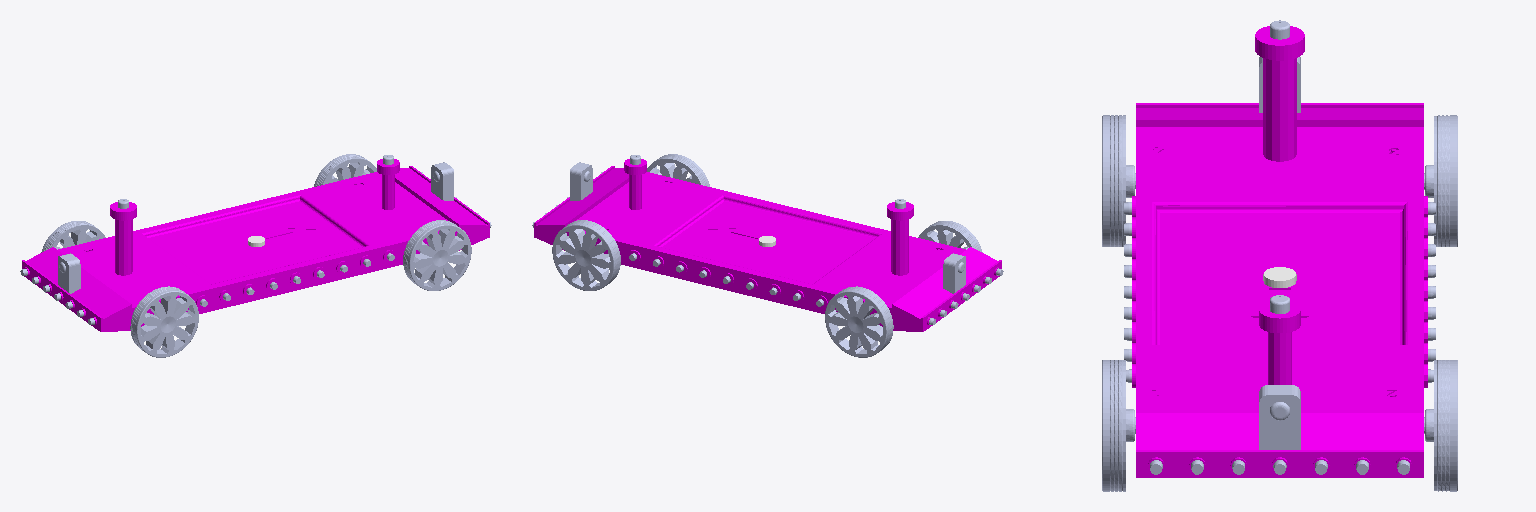
--- Render facts (derived) ---
Views: 3 orthographic renders of the robot side by side, from view 1: azimuth 30°, elevation 25°; view 2: azimuth 150°, elevation 25°; view 3: azimuth 270°, elevation 25°.
Robot: rover_proto_A1_gps — 15 links, 14 joints (4 continuous, 10 fixed); root link Chassis; default pose: every joint at zero.
Links seen in each view (by area): view 1: Chassis, Wheel_4_Link, Wheel_1_Link, Wheel_2_Link, Wheel_3_Link, Camera_Back_Link, Camera_Fwd_Link; view 2: Chassis, Wheel_3_Link, Wheel_2_Link, Wheel_1_Link, Wheel_4_Link, Camera_Back_Link, Camera_Fwd_Link; view 3: Chassis, Wheel_1_Link, Wheel_2_Link, Wheel_4_Link, Wheel_3_Link, Camera_Fwd_Link, Lights_Fwd_Link, Lights_Right_Link, Lights_Left_Link, link_GPS.
Link boxes in pixels (left/top/right/bottom): Chassis: left=22, top=159, right=489, bottom=331; Wheel_4_Link: left=130, top=286, right=198, bottom=357; Wheel_1_Link: left=403, top=220, right=471, bottom=290; Wheel_2_Link: left=314, top=154, right=376, bottom=186; Wheel_3_Link: left=41, top=221, right=105, bottom=252; Camera_Back_Link: left=58, top=253, right=80, bottom=293; Camera_Fwd_Link: left=431, top=162, right=453, bottom=200; Chassis: left=534, top=159, right=1001, bottom=331; Wheel_3_Link: left=825, top=286, right=893, bottom=357; Wheel_2_Link: left=552, top=220, right=620, bottom=290; Wheel_1_Link: left=647, top=154, right=709, bottom=186; Wheel_4_Link: left=918, top=221, right=982, bottom=252; Camera_Back_Link: left=943, top=253, right=965, bottom=293; Camera_Fwd_Link: left=570, top=162, right=592, bottom=200; Chassis: left=1132, top=26, right=1427, bottom=477; Wheel_1_Link: left=1102, top=360, right=1135, bottom=491; Wheel_2_Link: left=1424, top=360, right=1457, bottom=491; Wheel_4_Link: left=1102, top=115, right=1135, bottom=246; Wheel_3_Link: left=1424, top=115, right=1457, bottom=246; Camera_Fwd_Link: left=1259, top=385, right=1300, bottom=449; Lights_Fwd_Link: left=1150, top=460, right=1409, bottom=474; Lights_Right_Link: left=1124, top=202, right=1131, bottom=382; Lights_Left_Link: left=1428, top=202, right=1435, bottom=382; link_GPS: left=1263, top=267, right=1296, bottom=287.
Bounding box of the posed robot: 1.03 × 0.432 × 0.295 m (x, y, z).
Meshes: 13 distinct files referenced, 13 mesh visuals loaded (11 binary STL, 2 Collada DAE).

The robot description file, URDF, robot "rover_proto_A1_gps":
<?xml version="1.0" ?>
<!-- This URDF was automatically created by SolidWorks to URDF Exporter! Originally created by Stephen Brawner ([email redacted]) 
     Commit Version: 1.6.0-4-g7f85cfe  Build Version: 1.6.7995.38578
     For more information, please see http://wiki.ros.org/sw_urdf_exporter -->
<robot
  name="rover_proto_A1_gps">
  <link
    name="Chassis">
    <inertial>
      <origin
        xyz="-0.00365912647993058 -3.92554968145498E-06 -0.0261956410433819"
        rpy="0 0 0" />
      <mass
        value="17.7896117328331" />
      <inertia
        ixx="0.188123995834319"
        ixy="-3.69133382058458E-06"
        ixz="0.00394291892265975"
        iyy="1.49358440846885"
        iyz="-8.27261031196303E-06"
        izz="1.66880203354025" />
    </inertial>

    <visual>
      <origin
        xyz="0 0 0"
        rpy="0 0 0" />
      <geometry>
        <mesh
          filename="package://line_following_rover/urdf/rover_proto_A1/meshes/Chassis.dae" />
      </geometry>
      <material
        name="red">
        <color
          rgba="1.0 0.0 1.0 1" />
      </material>
    </visual>

    <collision>
      <origin
        xyz="0 0 0"
        rpy="0 0 0" />
      <geometry>
        <mesh
          filename="package://line_following_rover/urdf/rover_proto_A1/meshes/Chassis.STL" />
      </geometry>
    </collision>
  </link>

  <link
    name="Lights_Fwd_Link">
    <inertial>
      <origin
        xyz="0.507527194200393 -3.69511700598624E-06 -0.0223168195436138"
        rpy="0 0 0" />
      <mass
        value="0.0132155007740645" />
      <inertia
        ixx="3.9910662761744E-07"
        ixy="7.75490345241783E-24"
        ixz="-1.19868842711491E-23"
        iyy="3.06977336844872E-07"
        iyz="-1.18562554465934E-23"
        izz="3.06977336844872E-07" />
    </inertial>
    <visual>
      <origin
        xyz="0 0 0"
        rpy="0 0 0" />
      <geometry>
        <mesh
          filename="package://line_following_rover/urdf/rover_proto_A1/meshes/Lights_Fwd_Link.STL" />
      </geometry>
      <material
        name="">
        <color
          rgba="0.792156862745098 0.819607843137255 0.933333333333333 1" />
      </material>
    </visual>

    <!-- <light name='light_source1' type='spot'>
      <pose frame=''>0.25 0 0.25 0 -0.7854 0</pose>
      <attenuation>
        <range>30</range>
        <linear>0.05</linear>
      </attenuation>
      <diffuse>1 0 0 1</diffuse>
      <specular>1 0 0 1</specular>
      <spot>
        <inner_angle>0.3</inner_angle>
        <outer_angle>0.35</outer_angle>
        <falloff>1</falloff>
      </spot>
      <direction>0 0 -1</direction>
    </light> -->

    <collision>
      <origin
        xyz="0 0 0"
        rpy="0 0 0" />
      <geometry>
        <mesh
          filename="package://line_following_rover/urdf/rover_proto_A1/meshes/Lights_Fwd_Link.STL" />
      </geometry>
    </collision>
  </link>

  <joint
    name="Lights_Fwd_Joint"
    type="fixed">
    <origin
      xyz="0 0 0"
      rpy="0 0 0" />
    <parent
      link="Chassis" />
    <child
      link="Lights_Fwd_Link" />
    <axis
      xyz="0 0 0" />
  </joint>
  <link
    name="Lights_Back_Link">
    <inertial>
      <origin
        xyz="-0.510085250925588 -3.69511700598624E-06 -0.0223168195436137"
        rpy="0 0 0" />
      <mass
        value="0.0132155007740645" />
      <inertia
        ixx="3.9910662761744E-07"
        ixy="6.8244111649112E-24"
        ixz="-1.29839861069366E-23"
        iyy="3.06977336844872E-07"
        iyz="-6.13492287643496E-24"
        izz="3.06977336844872E-07" />
    </inertial>
    <visual>
      <origin
        xyz="0 0 0"
        rpy="0 0 0" />
      <geometry>
        <mesh
          filename="package://line_following_rover/urdf/rover_proto_A1/meshes/Lights_Back_Link.STL" />
      </geometry>
      <material
        name="">
        <color
          rgba="0.792156862745098 0.819607843137255 0.933333333333333 1" />
      </material>
    </visual>
    <collision>
      <origin
        xyz="0 0 0"
        rpy="0 0 0" />
      <geometry>
        <mesh
          filename="package://line_following_rover/urdf/rover_proto_A1/meshes/Lights_Back_Link.STL" />
      </geometry>
    </collision>
  </link>
  <joint
    name="Lights_Back_Joint"
    type="fixed">
    <origin
      xyz="0 0 0"
      rpy="0 0 0" />
    <parent
      link="Chassis" />
    <child
      link="Lights_Back_Link" />
    <axis
      xyz="0 0 0" />
  </joint>

  <link
    name="Lidar_Fwd_Link">
    <inertial>
      <origin
        xyz="-2.77555756156289E-17 -2.77555756156289E-17 0.00132574469891017"
        rpy="0 0 0" />
      <mass
        value="0.00718054669235149" />
      <inertia
        ixx="4.06173549617938E-07"
        ixy="-1.78668025637928E-27"
        ixz="-1.49774027075481E-23"
        iyy="4.06693549617938E-07"
        iyz="-2.63696474568856E-26"
        izz="5.54439348186677E-07" />
    </inertial>
    <visual>
      <origin
        xyz="0 0 0"
        rpy="0 0 0" />
      <geometry>
        <mesh
          filename="package://line_following_rover/urdf/rover_proto_A1/meshes/Lidar_Fwd_Link.STL" />
      </geometry>
      <material
        name="">
        <color
          rgba="0.792156862745098 0.819607843137255 0.933333333333333 1" />
      </material>
    </visual>
    <collision>
      <origin
        xyz="0 0 0"
        rpy="0 0 0" />
      <geometry>
        <mesh
          filename="package://line_following_rover/urdf/rover_proto_A1/meshes/Lidar_Fwd_Link.STL" />
      </geometry>
    </collision>
  </link>

  <joint
    name="Lidar_Fwd_Joint"
    type="fixed">
    <origin
      xyz="0.33872 0 0.116"
      rpy="0 0 -1.57" />
    <parent
      link="Chassis" />
    <child
      link="Lidar_Fwd_Link" />
    <axis
      xyz="0 0 0" />
  </joint>

  <link
    name="Lidar_Back_Link">
    <inertial>
      <origin
        xyz="0 -2.77555756156289E-17 0.00132574469891017"
        rpy="0 0 0" />
      <mass
        value="0.00718054669235149" />
      <inertia
        ixx="4.06173549617938E-07"
        ixy="2.38255619983598E-27"
        ixz="-1.74704316295583E-23"
        iyy="4.06693549617938E-07"
        iyz="4.66873926235502E-42"
        izz="5.54439348186677E-07" />
    </inertial>
    <visual>
      <origin
        xyz="0 0 0"
        rpy="0 0 0" />
      <geometry>
        <mesh
          filename="package://line_following_rover/urdf/rover_proto_A1/meshes/Lidar_Back_Link.STL" />
      </geometry>
      <material
        name="">
        <color
          rgba="0.792156862745098 0.819607843137255 0.933333333333333 1" />
      </material>
    </visual>
    <collision>
      <origin
        xyz="0 0 0"
        rpy="0 0 0" />
      <geometry>
        <mesh
          filename="package://line_following_rover/urdf/rover_proto_A1/meshes/Lidar_Back_Link.STL" />
      </geometry>
    </collision>
  </link>

  <joint
    name="Lidar_Back_Joint"
    type="fixed">
    <origin
      xyz="-0.34128 0 0.166"
      rpy="0 0 1.57" />
    <parent
      link="Chassis" />
    <child
      link="Lidar_Back_Link" />
    <axis
      xyz="0 0 0" />
  </joint>

  <link
    name="Camera_Fwd_Link">
    <inertial>
      <origin
        xyz="-0.0197350018270021 3.65896736520543E-08 -0.0158959745479343"
        rpy="0 0 0" />
      <mass
        value="0.113752710585391" />
      <inertia
        ixx="7.31847315721116E-05"
        ixy="3.14172237115925E-12"
        ixz="1.11972038452148E-06"
        iyy="6.00130734763396E-05"
        iyz="-1.75810930148708E-10"
        izz="3.20124877089661E-05" />
    </inertial>
    <visual>
      <origin
        xyz="0 0 0"
        rpy="0 0 0" />
      <geometry>
        <mesh
          filename="package://line_following_rover/urdf/rover_proto_A1/meshes/Camera_Fwd_Link.STL" />
      </geometry>
      <material
        name="">
        <color
          rgba="0.792156862745098 0.819607843137255 0.933333333333333 1" />
      </material>
    </visual>
    <collision>
      <origin
        xyz="0 0 0"
        rpy="0 0 0" />
      <geometry>
        <mesh
          filename="package://line_following_rover/urdf/rover_proto_A1/meshes/Camera_Fwd_Link.STL" />
      </geometry>
    </collision>
  </link>

  <joint
    name="Camera_Fwd_Joint"
    type="fixed">
    <origin
      xyz="0.49872 0 0.046965"
      rpy="0 0 0" />
    <parent
      link="Chassis" />
    <child
      link="Camera_Fwd_Link" />
    <axis
      xyz="0 0 0" />
  </joint>

<!-- Test link for back cam -->
  <link name="Camera_Back_Link_Frame">
    <origin
      xyz="0.0197350018270018 -1.82825367733841E-07 -0.0158959745479384"
      rpy="0 0 0" />

  </link>

  <joint
    name="Camera_Back_Frame_Joint"
    type="fixed">
    <origin
      xyz="-0.50128 0 0.046965"
      rpy="0 0 3.1416" />
    <parent
      link="Chassis" />
    <child
      link="Camera_Back_Link_Frame" />
    <axis
      xyz="0 0 0" />
  </joint>

  <link
    name="Camera_Back_Link">
    <inertial>
      <origin
        xyz="0.0197350018270018 -1.82825367733841E-07 -0.0158959745479384"
        rpy="0 0 0" />
      <mass
        value="0.113752710585391" />
      <inertia
        ixx="7.31847315721118E-05"
        ixy="3.14172236060984E-12"
        ixz="-1.1197203845215E-06"
        iyy="6.00130734763398E-05"
        iyz="1.75810930147711E-10"
        izz="3.20124877089662E-05" />
    </inertial>
    <visual>
      <origin
        xyz="0 0 0"
        rpy="0 0 0" />
      <geometry>
        <mesh
          filename="package://line_following_rover/urdf/rover_proto_A1/meshes/Camera_Back_Link.dae" />
      </geometry>
      <material
        name="">
        <color
          rgba="0.792156862745098 0.819607843137255 0.933333333333333 1" />
      </material>
    </visual>
    <collision>
      <origin
        xyz="0 0 0"
        rpy="0 0 0" />
      <geometry>
        <mesh
          filename="package://line_following_rover/urdf/rover_proto_A1/meshes/Camera_Back_Link.STL" />
      </geometry>
    </collision>
  </link>

  

  <joint
    name="Camera_Back_Joint"
    type="fixed">
    <origin
      xyz="-0.50128 0 0.046965"
      rpy="0 0 0" />
    <parent
      link="Chassis" />
    <child
      link="Camera_Back_Link" />
    <axis
      xyz="0 0 0" />
  </joint>

  <link
    name="Lights_Right_Link">
    <inertial>
      <origin
        xyz="-0.00127902836259733 -0.183809917679996 -0.0251832122349882"
        rpy="0 0 0" />
      <mass
        value="0.0169913581380829" />
      <inertia
        ixx="3.94685147371978E-07"
        ixy="4.55988347062208E-24"
        ixz="-9.86348436712857E-24"
        iyy="5.13137092650993E-07"
        iyz="-1.19093415939117E-24"
        izz="3.94685147371978E-07" />
    </inertial>
    <visual>
      <origin
        xyz="0 0 0"
        rpy="0 0 0" />
      <geometry>
        <mesh
          filename="package://line_following_rover/urdf/rover_proto_A1/meshes/Lights_Right_Link.STL" />
      </geometry>
      <material
        name="">
        <color
          rgba="0.792156862745098 0.819607843137255 0.933333333333333 1" />
      </material>
    </visual>
    <collision>
      <origin
        xyz="0 0 0"
        rpy="0 0 0" />
      <geometry>
        <mesh
          filename="package://line_following_rover/urdf/rover_proto_A1/meshes/Lights_Right_Link.STL" />
      </geometry>
    </collision>
  </link>

  <joint
    name="Lights_Right_Joint"
    type="fixed">
    <origin
      xyz="0 0 0"
      rpy="0 0 0" />
    <parent
      link="Chassis" />
    <child
      link="Lights_Right_Link" />
    <axis
      xyz="0 0 0" />
  </joint>

  <link
    name="Lights_Left_Link">
    <inertial>
      <origin
        xyz="-0.00127902836259736 0.183802527445984 -0.0251832122349882"
        rpy="0 0 0" />
      <mass
        value="0.0169913581380829" />
      <inertia
        ixx="3.94685147371979E-07"
        ixy="-2.7969213597333E-24"
        ixz="-1.05320496259739E-23"
        iyy="5.13137092650994E-07"
        iyz="5.48402625179042E-25"
        izz="3.94685147371979E-07" />
    </inertial>
    <visual>
      <origin
        xyz="0 0 0"
        rpy="0 0 0" />
      <geometry>
        <mesh
          filename="package://line_following_rover/urdf/rover_proto_A1/meshes/Lights_Left_Link.STL" />
      </geometry>
      <material
        name="">
        <color
          rgba="0.792156862745098 0.819607843137255 0.933333333333333 1" />
      </material>
    </visual>
    <collision>
      <origin
        xyz="0 0 0"
        rpy="0 0 0" />
      <geometry>
        <mesh
          filename="package://line_following_rover/urdf/rover_proto_A1/meshes/Lights_Left_Link.STL" />
      </geometry>
    </collision>
  </link>

  <joint
    name="Lights_Left_Joint"
    type="fixed">
    <origin
      xyz="0 0 0"
      rpy="0 0 0" />
    <parent
      link="Chassis" />
    <child
      link="Lights_Left_Link" />
    <axis
      xyz="0 0 0" />
  </joint>

  <!-- Wheel Back Right -->

  <link
    name="Wheel_4_Link">
    <inertial>
      <origin
        xyz="5.55111512312578E-16 2.22044604925031E-16 -0.0168532279865622"
        rpy="0 0 0" />
      <mass
        value="0.456818382000865" />
      <inertia
        ixx="0.000768196974353752"
        ixy="-7.84270618276785E-19"
        ixz="-6.61935099916422E-19"
        iyy="0.000768196974353751"
        iyz="-2.61489639644202E-19"
        izz="0.00134492456127817" />
    </inertial>
    <visual>
      <origin
        xyz="0 0 0"
        rpy="0 0 0" />
      <geometry>
        <mesh
          filename="package://line_following_rover/urdf/rover_proto_A1/meshes/Wheel_4_Link.STL" />
      </geometry>
      <material
        name="">
        <color
          rgba="0.792156862745098 0.819607843137255 0.933333333333333 1" />
      </material>
    </visual>
    <collision>
      <origin
        xyz="0 0 0"
        rpy="0 0 0" />
      <geometry>
        <mesh
          filename="package://line_following_rover/urdf/rover_proto_A1/meshes/Wheel_4_Link.STL" />
      </geometry>
    </collision>
  </link>

  <joint
    name="Wheel_4_Joint"
    type="continuous">
    <origin
      xyz="-0.35128 -0.215 -0.04"
      rpy="1.5708 0 0" />
    <parent
      link="Chassis" />
    <child
      link="Wheel_4_Link" />
    <axis
      xyz="0 0 -1" />
    <limit
      effort="10"
      velocity="12" />
    <dynamics
      damping="0.25"
      friction="0.5" />
  </joint>

  <!-- Wheel Back Left -->
  <link
    name="Wheel_3_Link">
    <inertial>
      <origin
        xyz="-5.55111512312578E-16 -2.77555756156289E-16 0.0168532279865622"
        rpy="0 0 0" />
      <mass
        value="0.456818382000868" />
      <inertia
        ixx="0.000768196974353756"
        ixy="-1.88597179662025E-19"
        ixz="-4.93381505459919E-19"
        iyy="0.000768196974353758"
        iyz="-2.11063331529539E-19"
        izz="0.00134492456127819" />
    </inertial>
    <visual>
      <origin
        xyz="0 0 0"
        rpy="0 0 0" />
      <geometry>
        <mesh
          filename="package://line_following_rover/urdf/rover_proto_A1/meshes/Wheel_3_Link.STL" />
      </geometry>
      <material
        name="">
        <color
          rgba="0.792156862745098 0.819607843137255 0.933333333333333 1" />
      </material>
    </visual>
    <collision>
      <origin
        xyz="0 0 0"
        rpy="0 0 0" />
      <geometry>
        <mesh
          filename="package://line_following_rover/urdf/rover_proto_A1/meshes/Wheel_3_Link.STL" />
      </geometry>
    </collision>
  </link>

  <joint
    name="Wheel_3_Joint"
    type="continuous">
    <origin
      xyz="-0.35128 0.21499 -0.04"
      rpy="1.5708 0 0" />
    <parent
      link="Chassis" />
    <child
      link="Wheel_3_Link" />
    <axis
      xyz="0 0 -1" />
    <limit
      effort="10"
      velocity="12" />
    <dynamics
      damping="0.25"
      friction="0.5" />
  </joint>

  <!-- Wheel Front Left -->
  <link
    name="Wheel_2_Link">  
    <inertial>
      <origin
        xyz="-4.9960036108132E-16 2.22044604925031E-16 0.0168532279865622"
        rpy="0 0 0" />
      <mass
        value="0.456818382000864" />
      <inertia
        ixx="0.000768196974353751"
        ixy="1.02115446619666E-18"
        ixz="-7.60710993935944E-19"
        iyy="0.000768196974353751"
        iyz="3.64043121106115E-19"
        izz="0.00134492456127817" />
    </inertial>
    <visual>
      <origin
        xyz="0 0 0"
        rpy="0 0 0" />
      <geometry>
        <mesh
          filename="package://line_following_rover/urdf/rover_proto_A1/meshes/Wheel_2_Link.STL" />
      </geometry>
      <material
        name="">
        <color
          rgba="0.792156862745098 0.819607843137255 0.933333333333333 1" />
      </material>
    </visual>
    <collision>
      <origin
        xyz="0 0 0"
        rpy="0 0 0" />
      <geometry>
        <mesh
          filename="package://line_following_rover/urdf/rover_proto_A1/meshes/Wheel_2_Link.STL" />
      </geometry>
    </collision>
  </link>

  <joint
    name="Wheel_2_Joint"
    type="continuous">
    <origin
      xyz="0.34872 0.215 -0.04"
      rpy="1.5708 0 0" />
    <parent
      link="Chassis" />
    <child
      link="Wheel_2_Link" />
    <axis
      xyz="0 0 -1" />
    <limit
      effort="10"
      velocity="12" />
    <dynamics
      damping="0.25"
      friction="0.5" />
  </joint>

  <!-- Wheel Front Right -->
  <link
    name="Wheel_1_Link">
    <inertial>
      <origin
        xyz="4.44089209850063E-16 -2.77555756156289E-16 -0.0168532279865622"
        rpy="0 0 0" />
      <mass
        value="0.456818382000864" />
      <inertia
        ixx="0.000768196974353751"
        ixy="4.13590306270488E-21"
        ixz="-4.91914176943726E-19"
        iyy="0.000768196974353752"
        iyz="2.33003390471223E-19"
        izz="0.00134492456127817" />
    </inertial>
    <visual>
      <origin
        xyz="0 0 0"
        rpy="0 0 0" />
      <geometry>
        <mesh
          filename="package://line_following_rover/urdf/rover_proto_A1/meshes/Wheel_1_Link.STL" />
      </geometry>
      <material
        name="">
        <color
          rgba="0.792156862745098 0.819607843137255 0.933333333333333 1" />
      </material>
    </visual>
    <collision>
      <origin
        xyz="0 0 0"
        rpy="0 0 0" />
      <geometry>
        <mesh
          filename="package://line_following_rover/urdf/rover_proto_A1/meshes/Wheel_1_Link.STL" />
      </geometry>
    </collision>
  </link>

  <joint
    name="Wheel_1_Joint"
    type="continuous">
    <origin
      xyz="0.34872 -0.215 -0.04"
      rpy="1.5708 0 0" />
    <parent
      link="Chassis" />
    <child
      link="Wheel_1_Link" />
    <axis
      xyz="0 0 -1" />
    <limit
      effort="10"
      velocity="12" />
    <dynamics
      damping="0.25"
      friction="0.5" />
  </joint>

<!-- /////////////////// GpS ////////// -->
  <link name="link_GPS">
    <visual>
      <geometry>
        <cylinder radius="0.02" length="0.02" />
      </geometry>
      <material name="white">
        <color rgba="1 1 1 1" />
      </material>
    </visual>

    <inertial>
      <mass value="0.002" />
      <inertia ixx="1e-13" ixy="0.0" ixz="0" iyy="1e-13" iyz="0" izz="1e-13" />
    </inertial>

    <collision>
      <geometry>
        <cylinder radius="0.02" length="0.02" />
      </geometry>
    </collision>
  </link>

  <gazebo reference="link_GPS">
    <sensor name="gps_rover" type="gps">
      <pose>0 0 0.1 0 0 0</pose> <!-- Adjust pose relative to your base -->
      <update_rate>5.0</update_rate>
      <always_on>true</always_on>
      <visualize>false</visualize>

      <plugin name="gps_rover_plugin" filename="libgazebo_ros_gps_sensor.so">
        <ros>
          <namespace>/gps_rover</namespace>
          <remapping>~/out:=rover_gps_data</remapping>
        </ros>
        <bodyName>link_GPS</bodyName>
        <frameId>link_GPS</frameId>
        <topicName>/gps/fix</topicName>
        <velocityTopicName>/gps/fix_velocity</velocityTopicName>
        <referenceLatitude>-30.06022459407145675</referenceLatitude>
        <referenceLongitude>-51.173913575780311191</referenceLongitude>
        <referenceHeading>90</referenceHeading>
        <referenceAltitude>10</referenceAltitude>
        <offset>0 0 0</offset>
        <drift>0.001 0.001 0.001</drift>
        <gaussianNoise>0.05 0.05 0.05</gaussianNoise>
        <velocityDrift>0.001 0.001 0.001</velocityDrift>
        <velocityGaussianNoise>0.5 0.5 0.5</velocityGaussianNoise>
      </plugin>


    </sensor>
  </gazebo> 


  <joint name="gps_rover_joint" type="fixed">
      <origin xyz="0 0 -0.01" rpy="0 0.0 0.0" />
      <parent link="Chassis" />
      <child link="link_GPS" />
      <axis xyz="0.0 0.0 1.0" />
  </joint>


  <!-- ////////////////////////  LIDAAAAAR Fwd//////////////-->
  <gazebo reference="Lidar_Fwd_Link">
      <sensor name="gazebo_lidar_fwd" type="ray">
      <visualize>true</visualize>
      <update_rate>12.0</update_rate>

      <plugin filename="libgazebo_ros_ray_sensor.so" name="gazebo_lidar_fwd">
        <ros>
            <remapping>~/out:=lidar_scan_fwd</remapping>
        </ros>
        <output_type>sensor_msgs/LaserScan</output_type>
        <frame_name>Lidar_Fwd_Link</frame_name>
      </plugin>

      <ray>
          <scan>
            <horizontal>
                <samples>360</samples>
                <resolution>1</resolution>
                <min_angle>0.00</min_angle>
                <max_angle>3.14</max_angle>
            </horizontal>
          </scan>
          <range>
            <min>0.120</min>
            <max>3.5</max>
            <resolution>0.015</resolution>
          </range>
          <noise>
            <type>gaussian</type>
            <mean>0.0</mean>
            <stddev>0.01</stddev>
          </noise>
      </ray>
      </sensor>
      <material>Gazebo/Red</material>
  </gazebo> 

  <!-- ////////////////////////  LIDAAAAAR Back  //////////////-->

  <gazebo reference="Lidar_Back_Link">
    <sensor name="gazebo_lidar_back" type="ray">
    <visualize>true</visualize>
    <update_rate>12.0</update_rate>

    <plugin filename="libgazebo_ros_ray_sensor.so" name="gazebo_lidar_back">
      <ros>
          <remapping>~/out:=lidar_scan_back</remapping>
      </ros>
      <output_type>sensor_msgs/LaserScan</output_type>
      <frame_name>Lidar_Back_Link</frame_name>
    </plugin>

    <ray>
        <scan>
          <horizontal>
              <samples>360</samples>
              <resolution>1</resolution>
              <min_angle>0.00</min_angle>
              <max_angle>3.14</max_angle>
          </horizontal>
        </scan>
        <range>
          <min>0.120</min>
          <max>3.5</max>
          <resolution>0.015</resolution>
        </range>
        <noise>
          <type>gaussian</type>
          <mean>0.0</mean>
          <stddev>0.01</stddev>
        </noise>
    </ray>
    </sensor>
    <material>Gazebo/Red</material>
  </gazebo> 


<!-- /////////////////  CAMERAAAAAAAAAAA Fwd/////////////////-->
  <!-- refeerance should be same as the link name that is in ref to we are adding this sensor-->
  <gazebo reference="Camera_Fwd_Link">  
    <sensor type="camera" name="camera_scan_fwd">
      <alwaysOn>true</alwaysOn>
      <visualize>true</visualize>
      <update_rate>30.0</update_rate>

      <camera name="cam_fwd">
        <horizontal_fov>1.3962634</horizontal_fov>
        <image>
          <width>800</width>
          <height>800</height>
          <format>R8G8B8</format>
        </image>
        <clip>
          <near>0.02</near>
          <far>300</far>
        </clip>
        <noise>
          <type>gaussian</type>
          <mean>0.0</mean>
          <stddev>0.007</stddev>
        </noise>
      </camera>

      <plugin name="camera_driver_fwd" filename="libgazebo_ros_camera.so">
          <updateRate>0.0</updateRate>
          <cameraName>/camera_fwd</cameraName>
          <imageTopicName>image_raw</imageTopicName>
          <cameraInfoTopicName>camera_info</cameraInfoTopicName>
          <frameName>Camera_Fwd_Link</frameName>
          <hackBaseline>0.07</hackBaseline>
      </plugin>
    </sensor>
    <material>Gazebo/Blue</material>
  </gazebo>

  <!-- /////////////////  CAMERAAAAAAAAAAA  back///////// Had to add pseudolink to face backwards////////-->


  <gazebo reference="Camera_Back_Link_Frame">
    <sensor type="camera" name="camera_scan_back">
      <alwaysOn>true</alwaysOn>
      <visualize>true</visualize>
      <update_rate>30.0</update_rate>

      <camera name="cam_back">
        <horizontal_fov>1.3962634</horizontal_fov>
        <image>
          <width>800</width>
          <height>800</height>
          <format>R8G8B8</format>
        </image>
        <clip>
          <near>0.02</near>
          <far>300</far>
        </clip>
        <noise>
          <type>gaussian</type>
          <mean>0.0</mean>
          <stddev>0.007</stddev>
        </noise>
      </camera>

      <plugin name="camera_driver_bck" filename="libgazebo_ros_camera.so">
          <updateRate>0.0</updateRate>
          <cameraName>/camera_back</cameraName>
          <imageTopicName>image_raw</imageTopicName>
          <cameraInfoTopicName>camera_info</cameraInfoTopicName>
          <frameName>Camera_Back_Link_Frame</frameName>
          <hackBaseline>0.07</hackBaseline>
      </plugin>
    </sensor>
    <material>Gazebo/Blue</material>
  </gazebo>


  <gazebo>
    <plugin name='diff_drive_fwd' filename='libgazebo_ros_diff_drive.so'>
        <left_joint>Wheel_2_Joint</left_joint>
        <right_joint>Wheel_1_Joint</right_joint>
        <wheel_separation>0.43</wheel_separation>
        <wheel_diameter>0.16</wheel_diameter>
        <max_wheel_torque>30</max_wheel_torque>
        <max_wheel_acceleration>1.50</max_wheel_acceleration>

        <publish_odom>true</publish_odom>
        <publish_odom_tf>true</publish_odom_tf>
        <publish_wheel_tf>true</publish_wheel_tf>

        <odometry_frame>base_footprint</odometry_frame>
        <robot_base_frame>Chassis</robot_base_frame>
    </plugin>

    <plugin name='diff_drive_back' filename='libgazebo_ros_diff_drive.so'>
        <left_joint>Wheel_3_Joint</left_joint>
        <right_joint>Wheel_4_Joint</right_joint>
        <wheel_separation>0.43</wheel_separation>
        <wheel_diameter>0.16</wheel_diameter>
        <max_wheel_torque>30</max_wheel_torque>
        <max_wheel_acceleration>1.50</max_wheel_acceleration>

        <publish_odom>true</publish_odom>
        <publish_odom_tf>true</publish_odom_tf>
        <publish_wheel_tf>true</publish_wheel_tf>

        <odometry_frame>base_footprint</odometry_frame>
        <robot_base_frame>Chassis</robot_base_frame>
    </plugin>
  </gazebo>


</robot>
